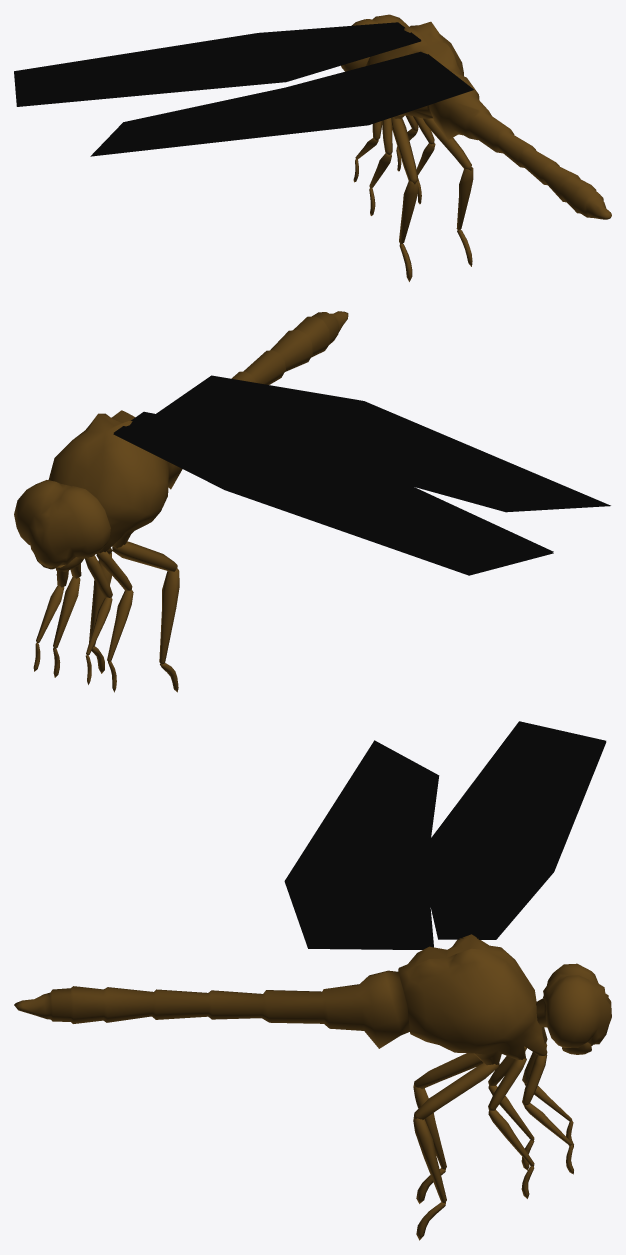
File: Dragonfly_model3.fbx
3 renders of one model, top to bottom at view 1: azimuth 30°, elevation 25°; view 2: azimuth 150°, elevation 25°; view 3: azimuth 270°, elevation 25°, orthographic. The views are drawn at different scales.
Visible parts, largest first — view 1: WingL_01_Veins, WingL_02_Film, Body, LegL3_1, WingL_01_Film, LegL3_2, LegR3_1, LegR3_2, Hed; view 2: WingL_01_Veins, WingL_02_Film, Body, Hed, LegL3_2, LegL3_1, WingL_01_Film, LegR2_2, LegL2_2, LegL2_1, LegR1_2, LegL1_1 (+1 smaller); view 3: Body, WingL_01_Veins, WingL_02_Film, Hed, LegR3_1, LegL3_1, LegR3_2.
Part boxes in pixels (x1,y1,x2,y2): WingL_01_Veins: (14, 22, 421, 105); WingL_02_Film: (90, 51, 473, 156); Body: (366, 21, 611, 219); LegL3_1: (391, 117, 418, 184); WingL_01_Film: (14, 40, 420, 106); LegL3_2: (399, 181, 417, 243); LegR3_1: (422, 118, 471, 170); LegR3_2: (456, 167, 473, 229); Hed: (341, 14, 408, 71); WingL_01_Veins: (113, 411, 553, 574); WingL_02_Film: (156, 375, 610, 512); Body: (48, 311, 348, 557); Hed: (14, 480, 110, 567); LegL3_2: (159, 568, 179, 664); LegL3_1: (112, 541, 177, 571); WingL_01_Film: (113, 433, 553, 575); LegR2_2: (53, 577, 80, 649); LegL2_2: (107, 589, 133, 662); LegL2_1: (96, 551, 132, 590); LegR1_2: (36, 585, 64, 642); LegL1_1: (85, 555, 112, 597); Body: (14, 934, 547, 1065); WingL_01_Veins: (419, 721, 606, 938); WingL_02_Film: (284, 740, 439, 949); Hed: (536, 963, 611, 1047); LegR3_1: (413, 1063, 499, 1119); LegL3_1: (413, 1053, 483, 1089); LegR3_2: (413, 1118, 446, 1202).
Bounding box in the file's own units: 1.99 × 2.02 × 1.05.
